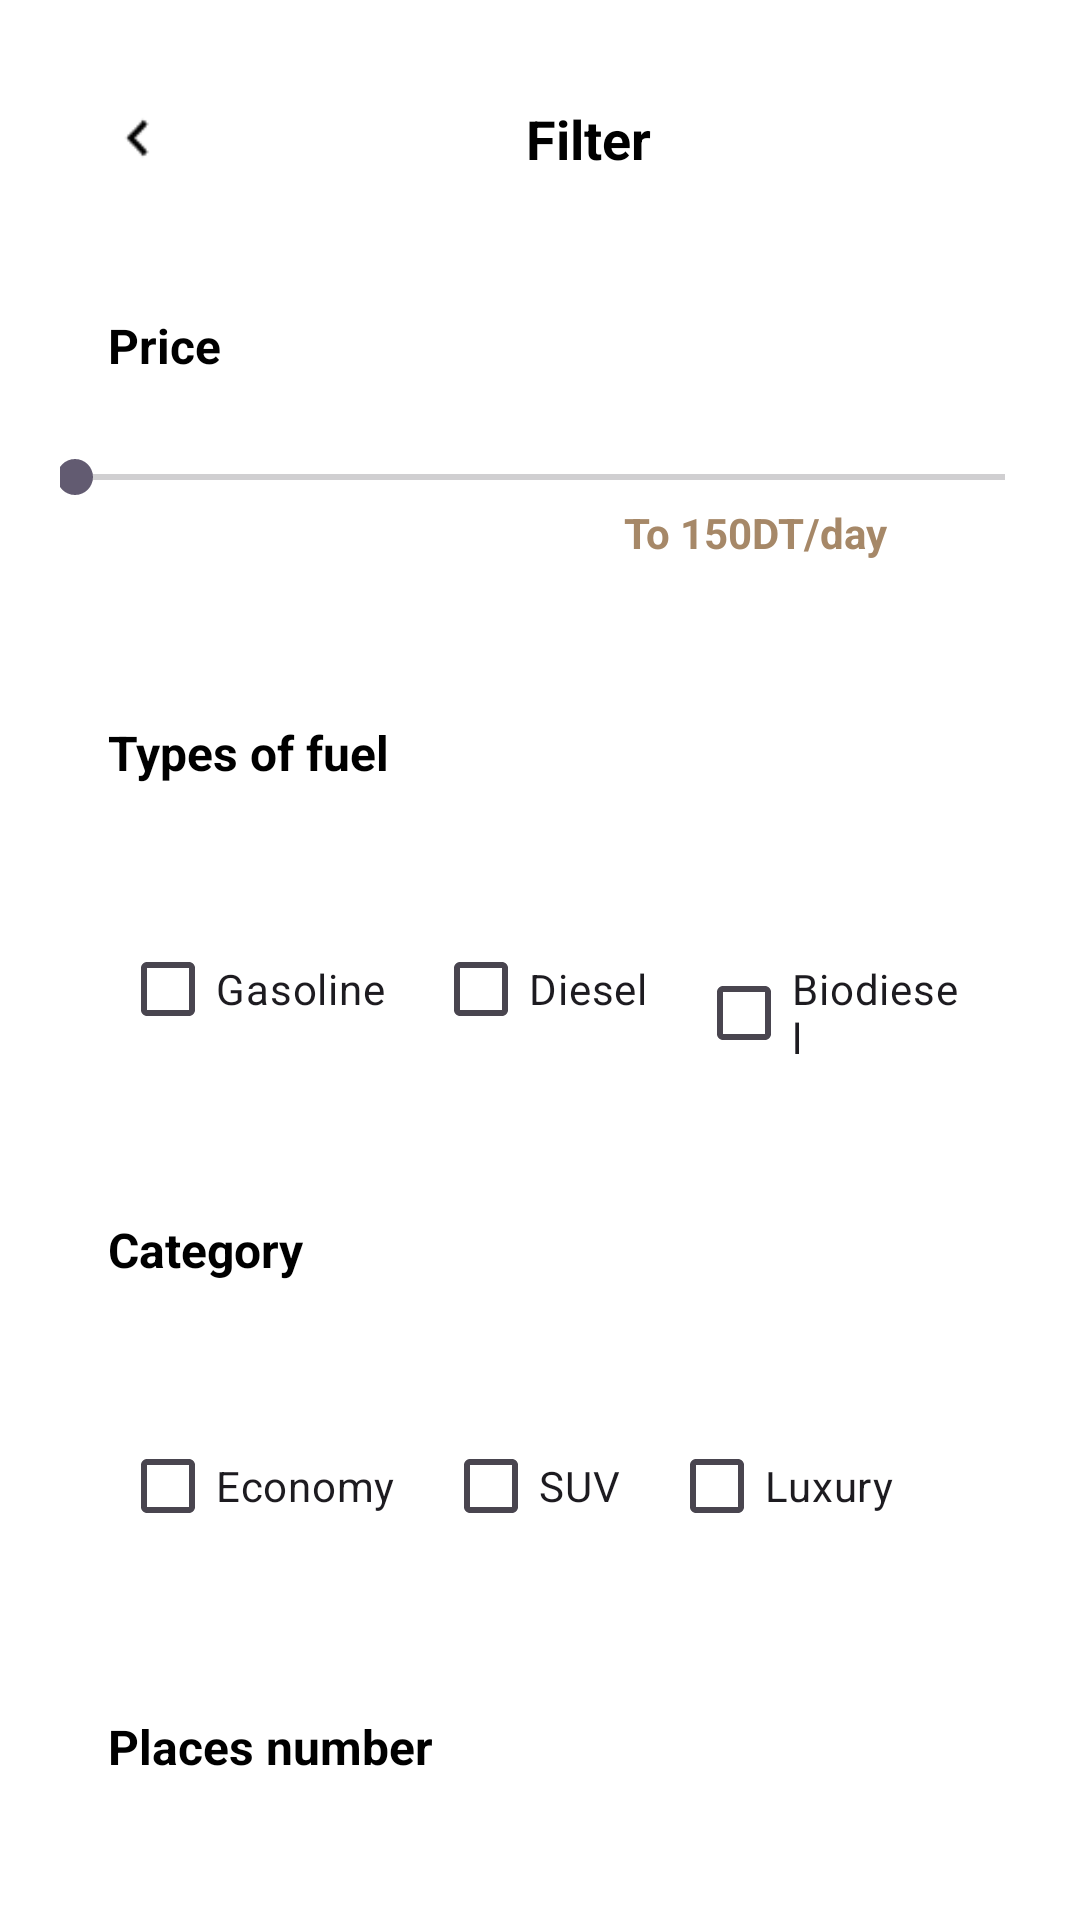

Screen size 1080 × 1920. Icon name, then its box in pixels as (x1, y1, x2, y2):
back arrow: (126, 120, 149, 156)
